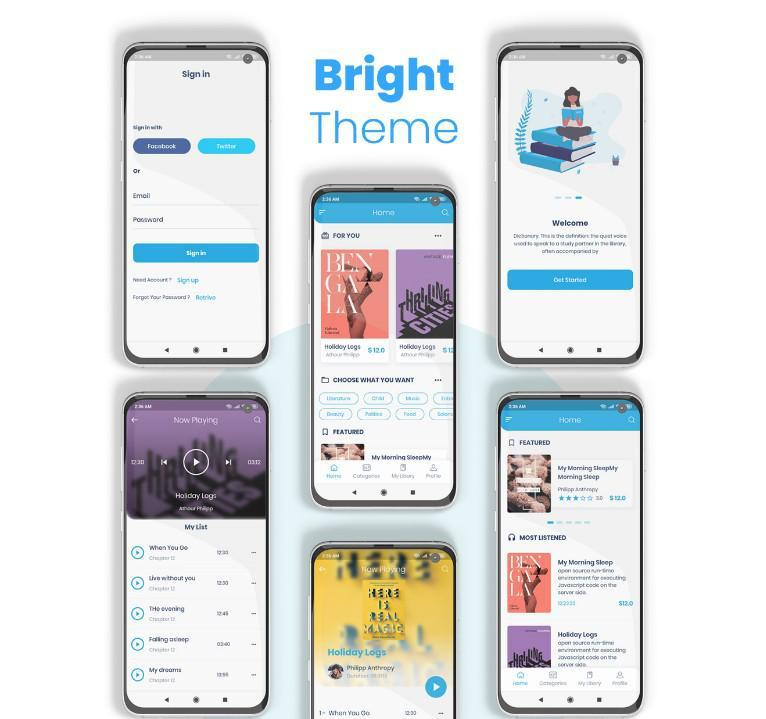button: (508, 269, 634, 293), (133, 244, 261, 264), (133, 138, 193, 156), (198, 139, 257, 156), (319, 393, 360, 406), (357, 409, 392, 421), (396, 408, 426, 422), (319, 409, 353, 421), (398, 393, 429, 406), (364, 393, 394, 405)
icon: (426, 677, 449, 699), (131, 668, 147, 684), (190, 455, 205, 471), (132, 606, 146, 623), (131, 546, 146, 561), (131, 637, 146, 652), (131, 577, 145, 590), (547, 671, 561, 682), (516, 671, 527, 682), (585, 671, 596, 682), (361, 464, 373, 474), (321, 231, 331, 242), (318, 208, 329, 218), (398, 464, 409, 474), (430, 464, 441, 474), (508, 533, 518, 544), (331, 463, 341, 473), (321, 376, 332, 385), (442, 209, 452, 218), (508, 439, 517, 449), (506, 416, 515, 426), (225, 458, 234, 468), (254, 417, 264, 426), (616, 672, 625, 681), (628, 417, 637, 425), (131, 416, 140, 424), (161, 459, 169, 467), (435, 378, 444, 385)
label: (130, 168, 150, 178)
